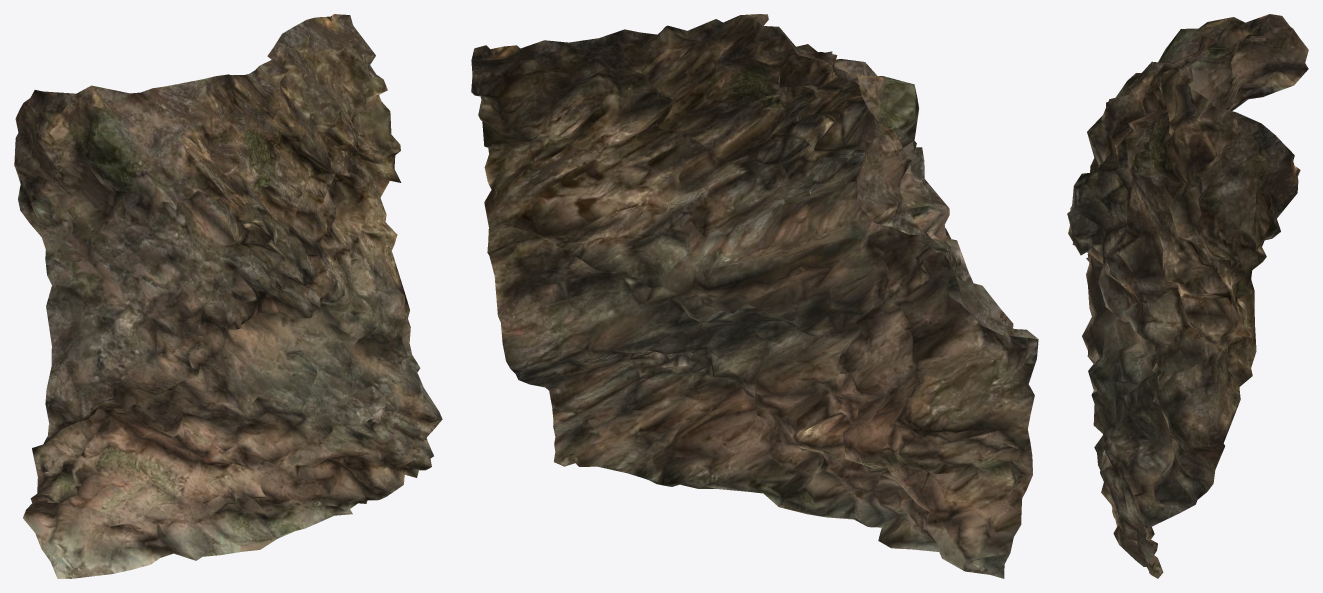
The model's file is mountainside_far.glb.
The picture shows the model from 3 angles, left to right: view 1: azimuth 30°, elevation 25°; view 2: azimuth 150°, elevation 25°; view 3: azimuth 270°, elevation 25°; orthographic projection. The views are drawn at different scales.
Parts seen in each view (by area): view 1: mountainside; view 2: mountainside; view 3: mountainside.
Part boxes in pixels (x1,y1,x2,y2): mountainside: (14,14,442,578); mountainside: (471,14,1038,578); mountainside: (1067,14,1308,578).
Size of the model in its own units: 10.19 by 10.52 by 5.25.
1 material, 1 textured.
